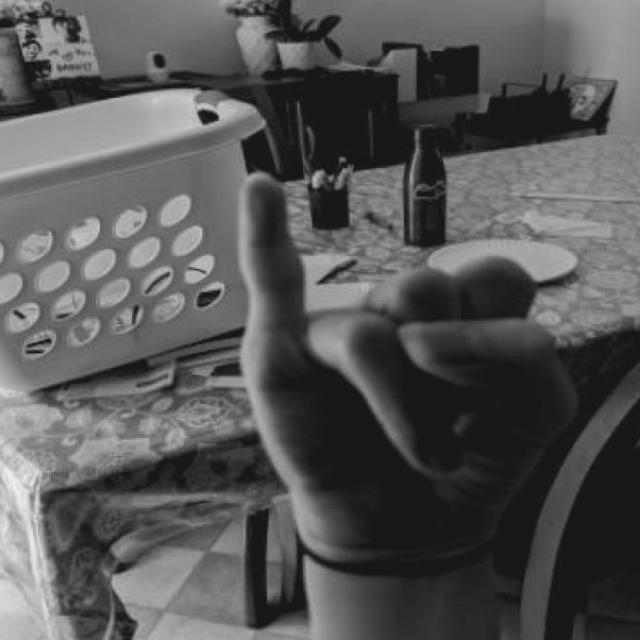I: (227, 162, 589, 621)
